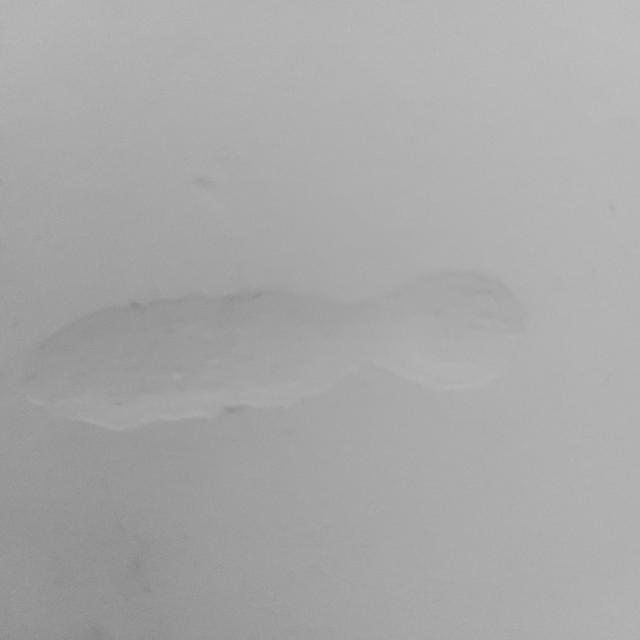rough and patchy surface: (9, 285, 546, 435)
